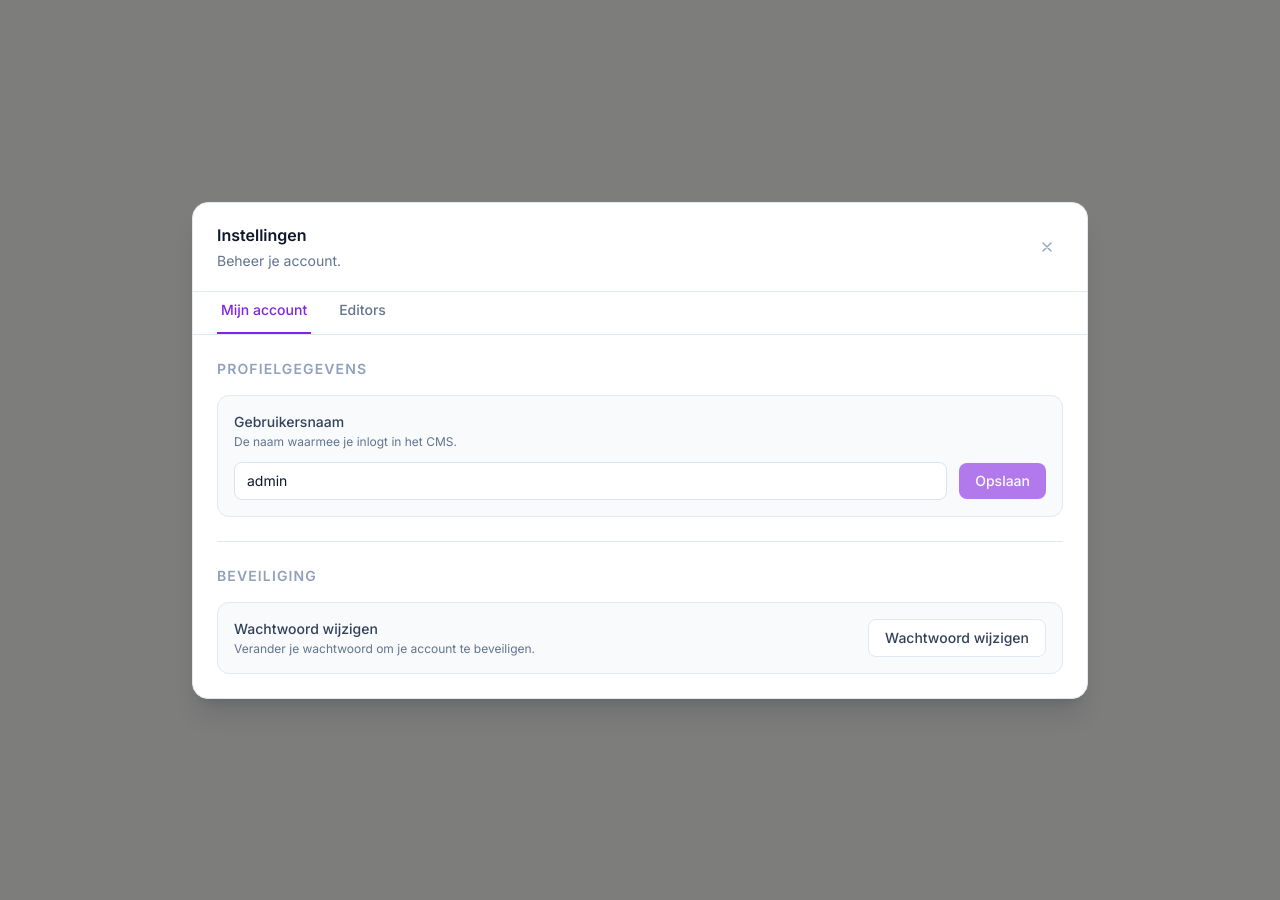
Test: SettingsModal › switches to Editors tab and loads editors from the cms-users editor endpoint
Click the tab "Editors": coordinates (363, 316) [335,300,390,334]
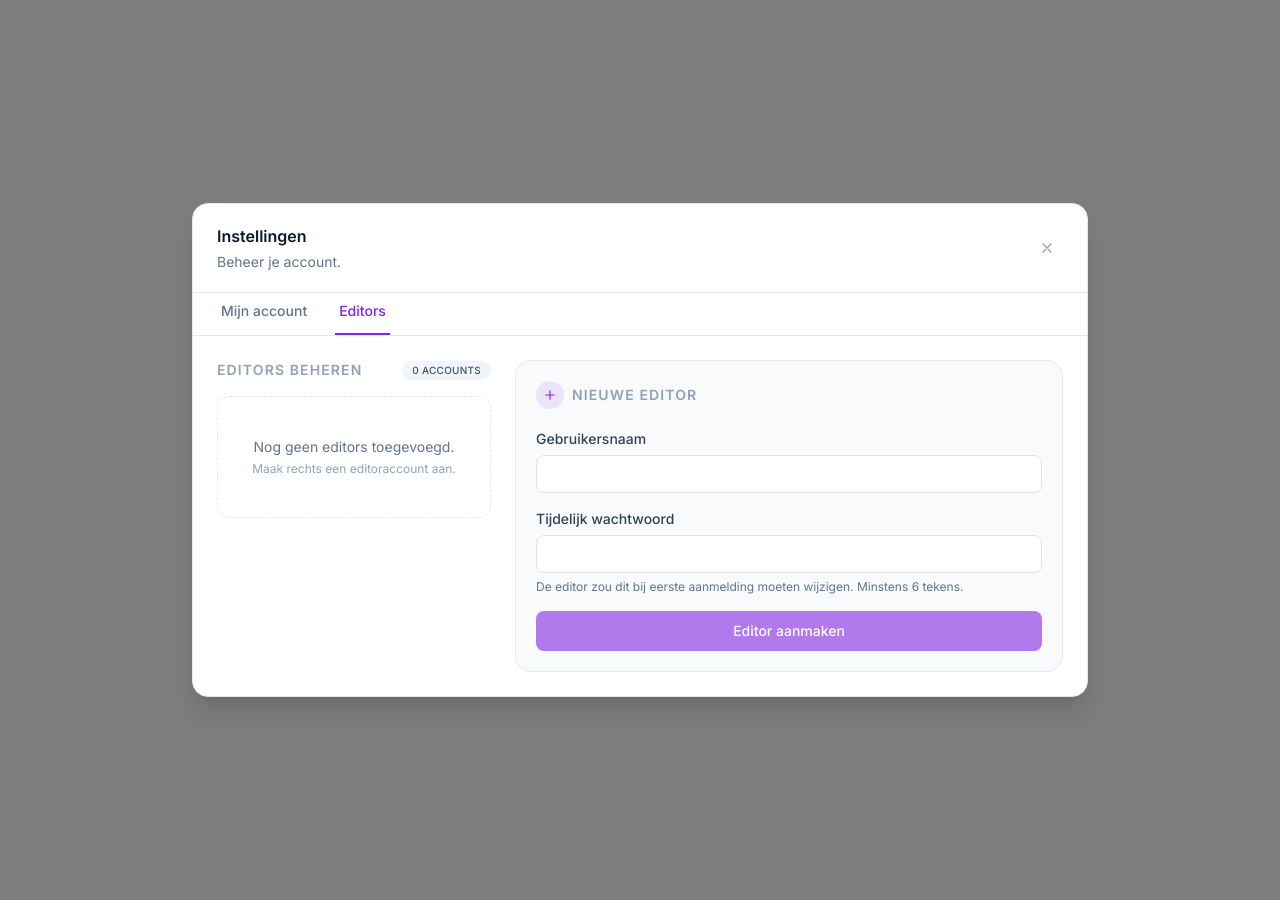
Expected: the heading "Editors beheren" is shown, [217,360,362,380]
